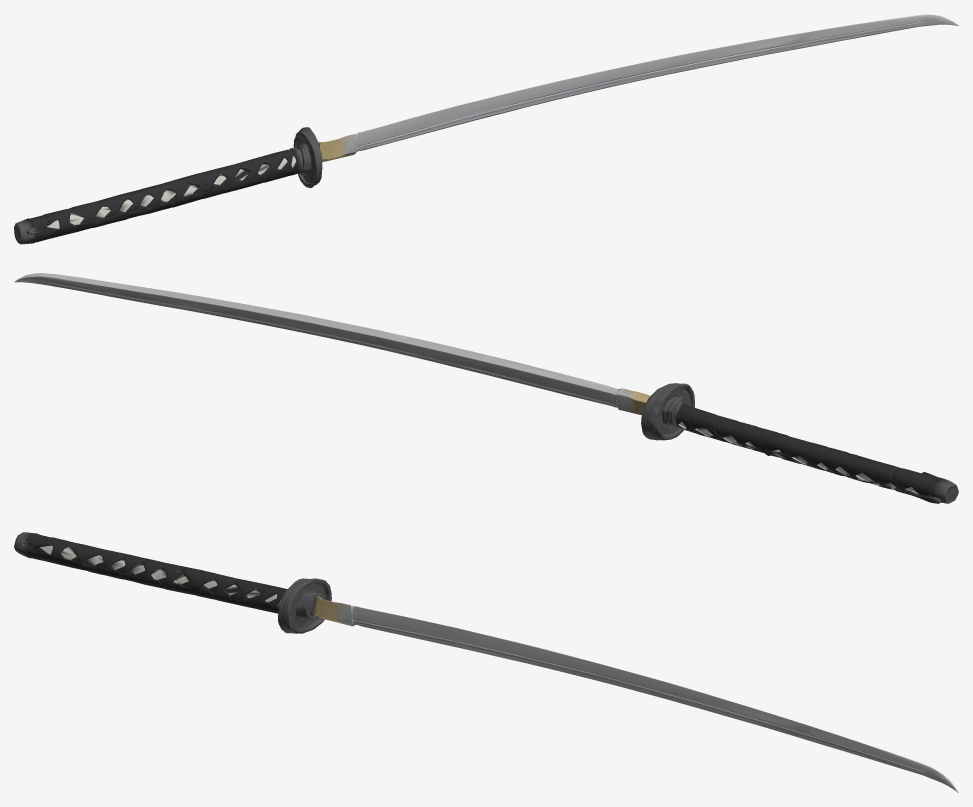
File: nodachi.glb
3 renders of one model, top to bottom at view 1: azimuth 30°, elevation 25°; view 2: azimuth 150°, elevation 25°; view 3: azimuth 330°, elevation 25°, orthographic.
Visible parts, largest first — view 1: _MeshInstance3D_51; view 2: _MeshInstance3D_51; view 3: _MeshInstance3D_51.
Part boxes in pixels (x1,y1,x2,y2): _MeshInstance3D_51: (14, 14, 958, 244); _MeshInstance3D_51: (14, 273, 958, 503); _MeshInstance3D_51: (14, 532, 958, 792).
Size of the model in its own units: 2.52 by 0.1389 by 0.1629.
